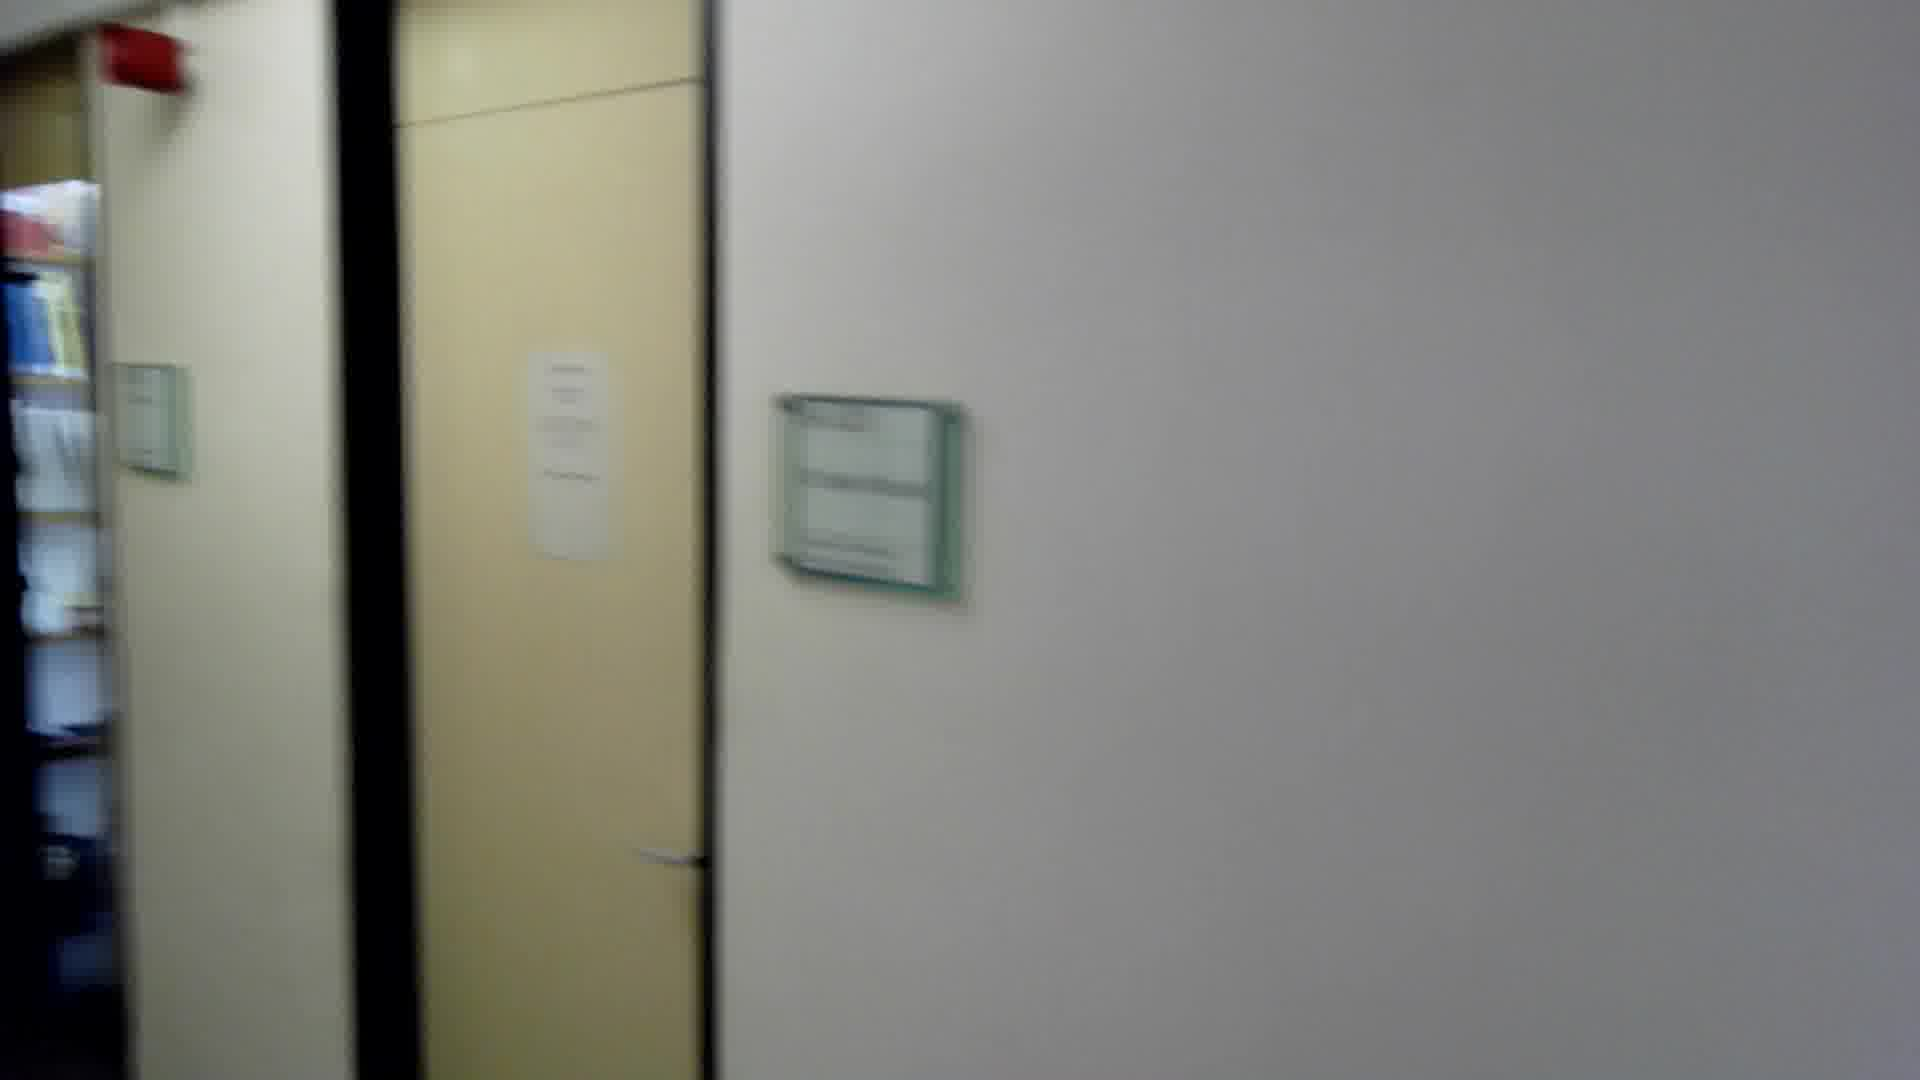Door: (309, 78, 740, 1080)
